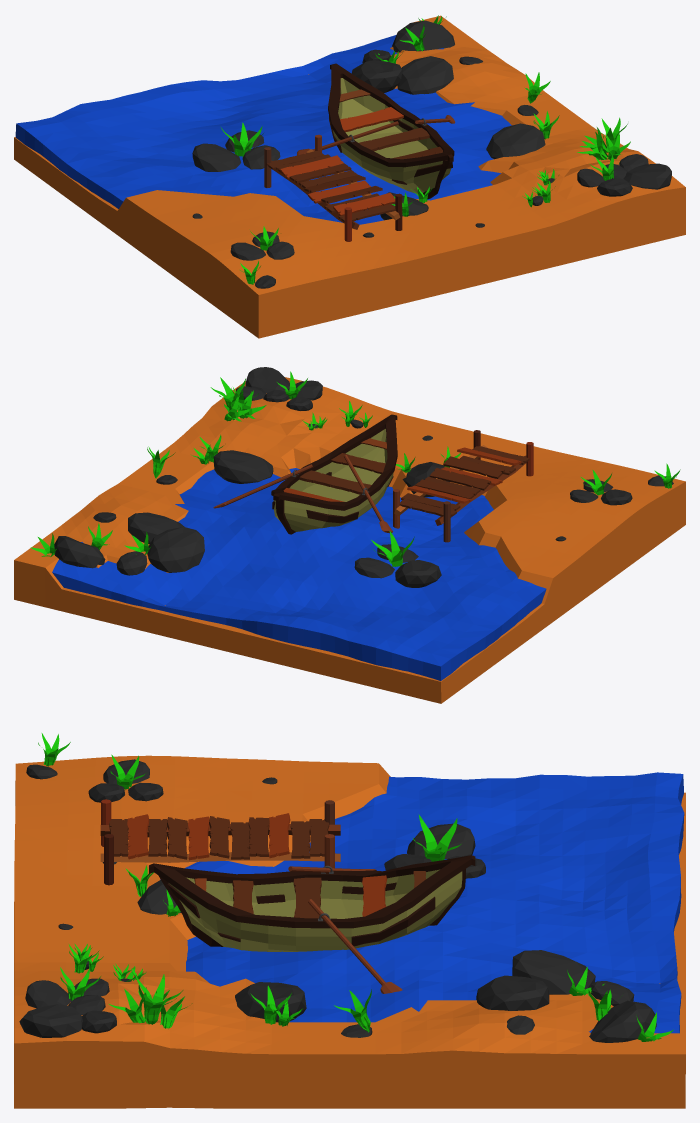
File: island.obj
3 views of the same model, one above another, from view 1: azimuth 30°, elevation 25°; view 2: azimuth 150°, elevation 25°; view 3: azimuth 270°, elevation 25° (orthographic). The views are drawn at different scales.
Visible parts, largest first — view 1: land_Plane, water_Plane.004, boat_Cube, bridge_Cylinder, Icosphere.013, Icosphere.020, Icosphere.015, Icosphere.014, Icosphere.010, Icosphere, Icosphere.011, Icosphere.001 (+1 smaller); view 2: land_Plane, water_Plane.004, boat_Cube, bridge_Cylinder, Icosphere.014, Icosphere.020, Icosphere.015, Icosphere.013, Icosphere.010, Icosphere, Icosphere.012, Icosphere.016 (+1 smaller); view 3: land_Plane, water_Plane.004, boat_Cube, bridge_Cylinder, Icosphere.014, Icosphere.013, Icosphere.015, Icosphere.020, Icosphere, Icosphere.010, Icosphere.001, Plane.014_Plane.001 (+7 smaller).
Part boxes in pixels (x1=…): land_Plane: x1=14, y1=15, x2=685, y2=338; water_Plane.004: x1=15, y1=35, x2=511, y2=224; boat_Cube: x1=328, y1=63, x2=454, y2=199; bridge_Cylinder: x1=264, y1=134, x2=402, y2=241; Icosphere.013: x1=397, y1=56, x2=453, y2=94; Icosphere.020: x1=486, y1=123, x2=545, y2=159; Icosphere.015: x1=392, y1=20, x2=454, y2=52; Icosphere.014: x1=351, y1=60, x2=402, y2=92; Icosphere.010: x1=192, y1=143, x2=240, y2=171; Icosphere: x1=623, y1=163, x2=671, y2=189; Icosphere.011: x1=242, y1=145, x2=280, y2=169; Icosphere.001: x1=597, y1=178, x2=632, y2=196; land_Plane: x1=14, y1=377, x2=685, y2=703; water_Plane.004: x1=52, y1=468, x2=546, y2=680; boat_Cube: x1=271, y1=414, x2=397, y2=534; bridge_Cylinder: x1=393, y1=430, x2=533, y2=542; Icosphere.014: x1=147, y1=527, x2=204, y2=572; Icosphere.020: x1=213, y1=450, x2=273, y2=483; Icosphere.015: x1=54, y1=536, x2=105, y2=568; Icosphere.013: x1=128, y1=512, x2=184, y2=543; Icosphere.010: x1=395, y1=560, x2=441, y2=587; Icosphere: x1=245, y1=367, x2=289, y2=393; Icosphere.012: x1=354, y1=557, x2=394, y2=578; Icosphere.016: x1=116, y1=551, x2=147, y2=575; land_Plane: x1=14, y1=755, x2=685, y2=1108; water_Plane.004: x1=160, y1=772, x2=684, y2=1033; boat_Cube: x1=149, y1=855, x2=475, y2=951; bridge_Cylinder: x1=100, y1=799, x2=340, y2=885; Icosphere.014: x1=512, y1=950, x2=595, y2=994; Icosphere.013: x1=476, y1=975, x2=549, y2=1010; Icosphere.015: x1=589, y1=1000, x2=656, y2=1042; Icosphere.020: x1=235, y1=982, x2=306, y2=1022; Icosphere: x1=19, y1=1004, x2=82, y2=1037; Icosphere.010: x1=407, y1=823, x2=475, y2=858; Icosphere.001: x1=25, y1=980, x2=71, y2=1008; Plane.014_Plane.001: x1=413, y1=814, x2=461, y2=861.
Size of what is drawn, in the model's own units: 6.13 by 1.36 by 6.
